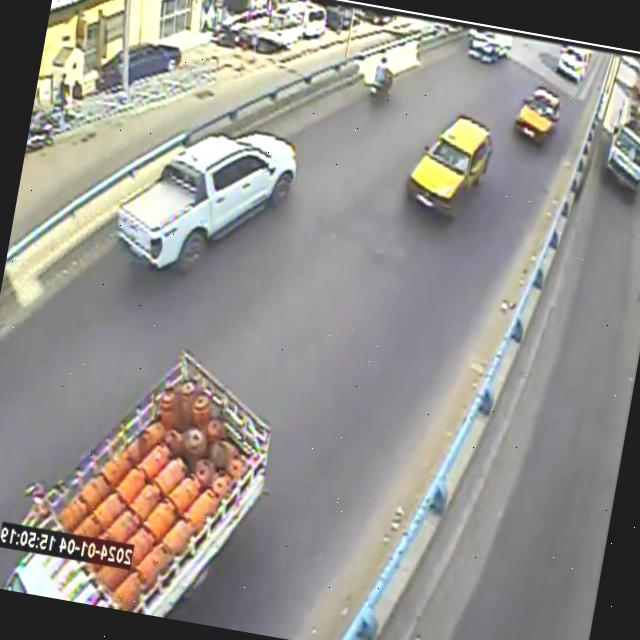car: (4, 352, 271, 617), (116, 132, 296, 271), (407, 114, 492, 216), (514, 85, 561, 144), (468, 28, 513, 62), (556, 46, 590, 82)
